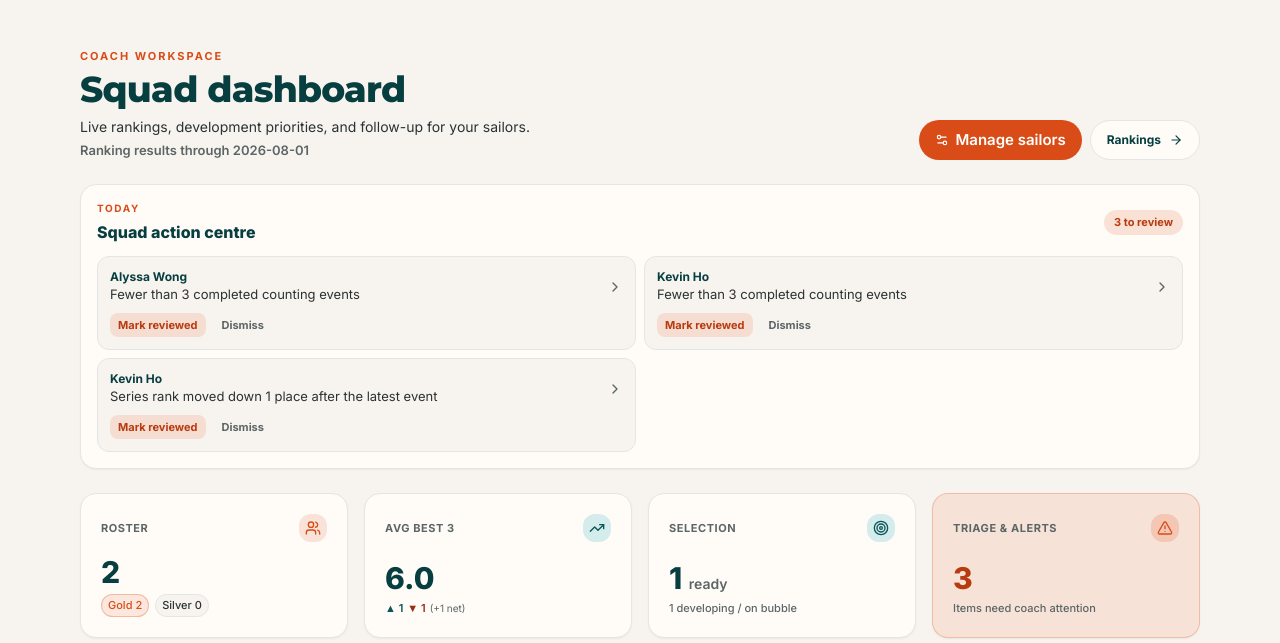
Test case: CoachDashboard › marks a generated squad action as reviewed
The width and height of the screenshot is (1280, 643).
Click the 1st button "Mark reviewed". click: {"x": 158, "y": 325}
box: [110,312,206,337]
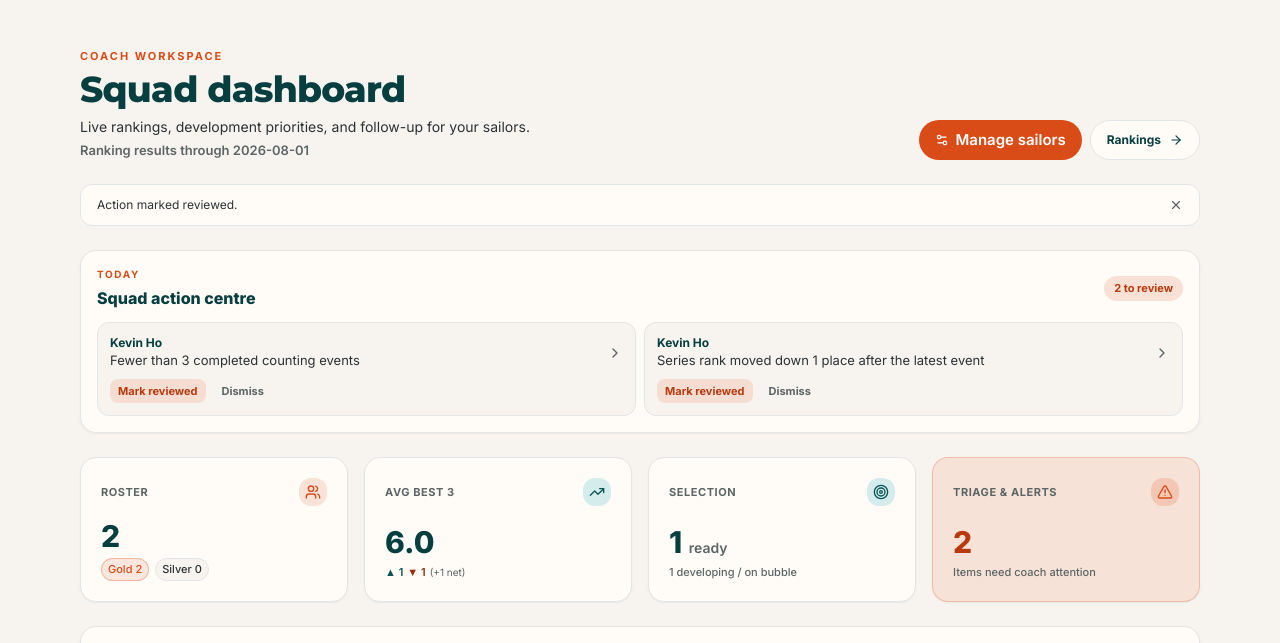
Now the number of buttons "Mark reviewed" is 2, box [110,378,206,403]; [657,378,752,403]
Now the message shows "marked reviewed", box [97,197,238,212]
